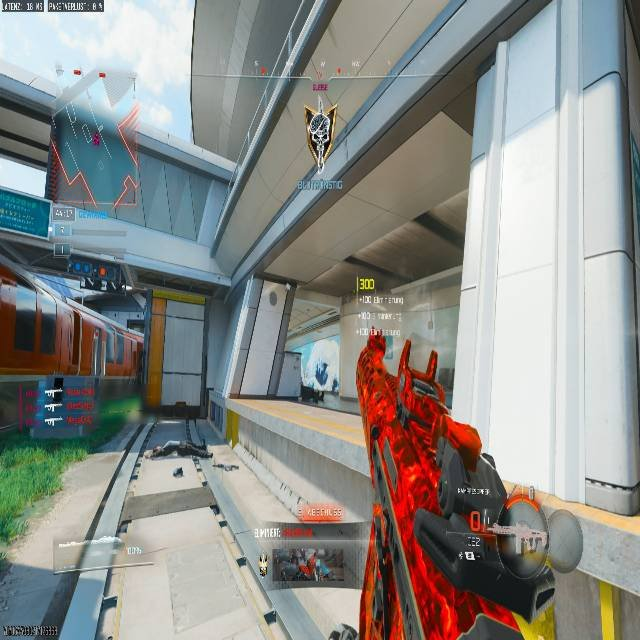head: (368, 329, 385, 349)
player: (356, 328, 393, 444), (303, 103, 338, 161), (336, 527, 344, 536)
